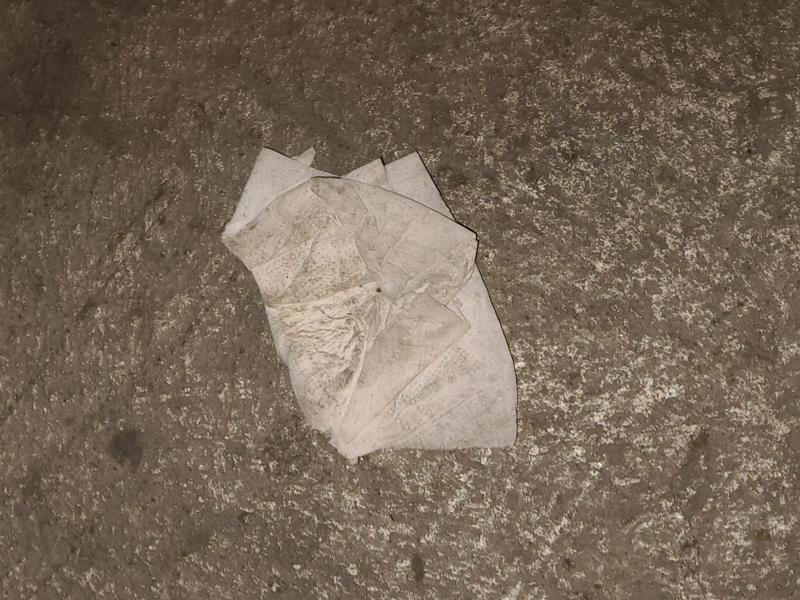papel: (219, 149, 519, 462)
